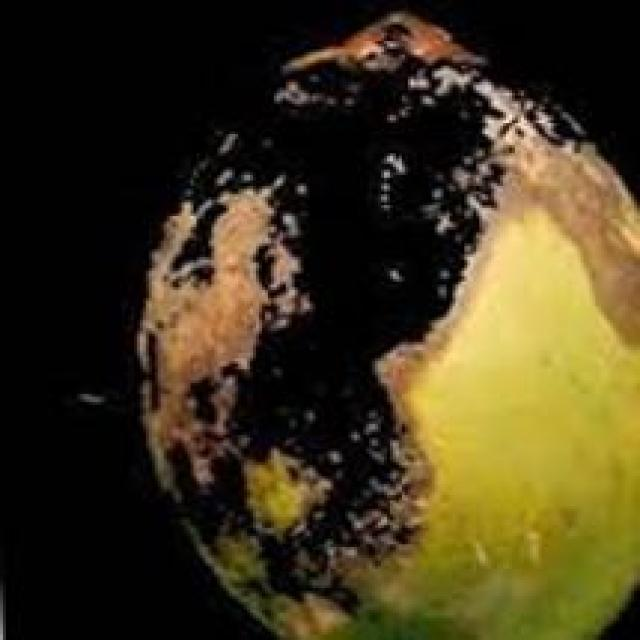damaged: (134, 14, 637, 637)
